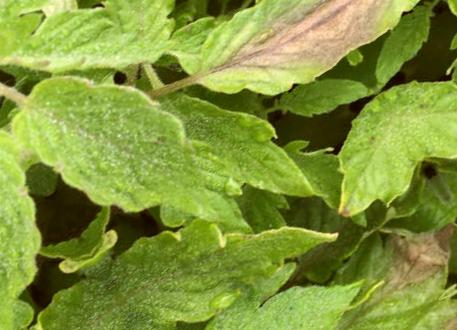Tomato mold leaf: (0, 28, 250, 309), (96, 142, 356, 330), (155, 0, 364, 155), (0, 0, 180, 162), (269, 199, 457, 330), (180, 240, 384, 330), (297, 87, 431, 224), (86, 0, 242, 84), (189, 0, 296, 2)
